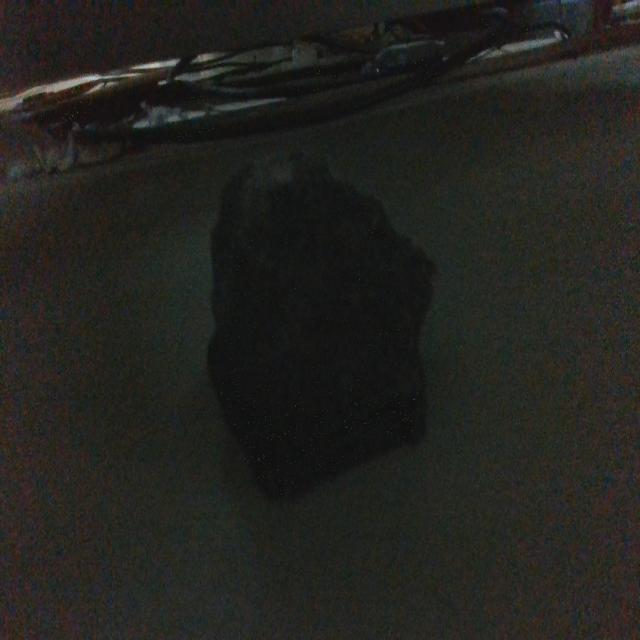stone: (205, 146, 439, 504)
